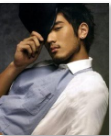person: (17, 2, 101, 70)
